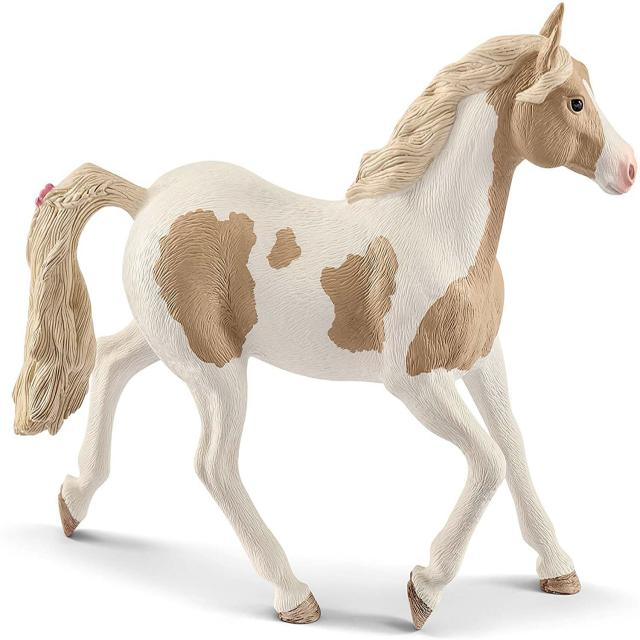horse: (14, 6, 636, 629)
